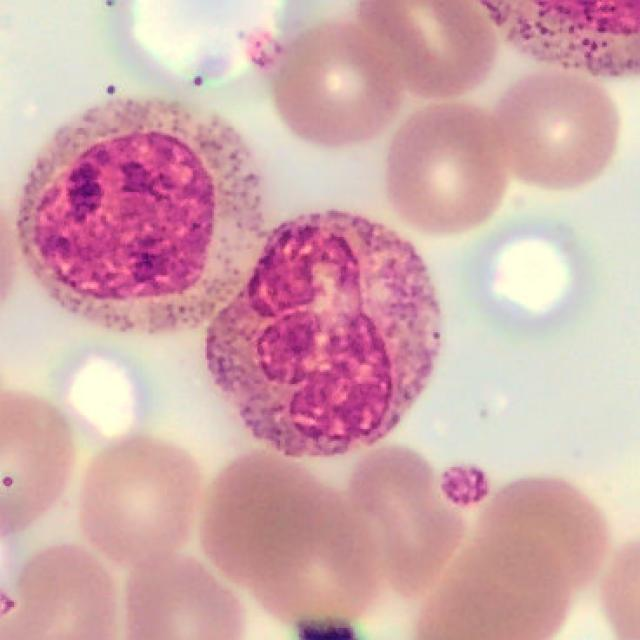Mielocito: (17, 95, 268, 336)
Neutrofilo segmentado: (205, 211, 443, 460)
